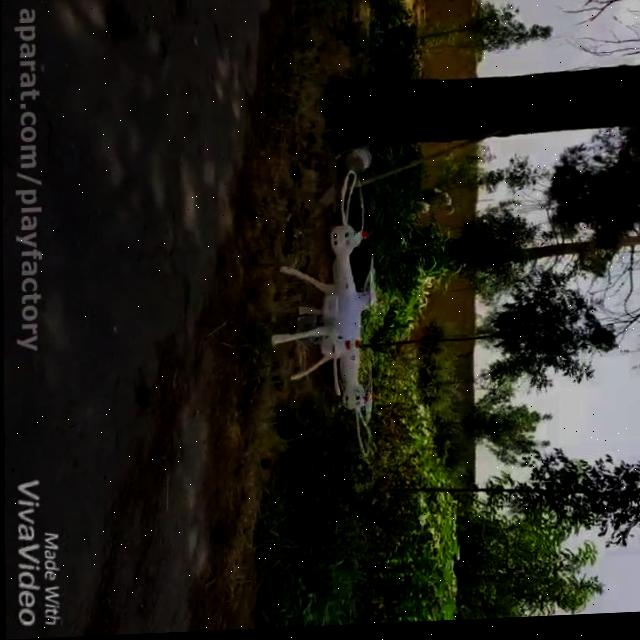drone: (267, 171, 385, 462)
